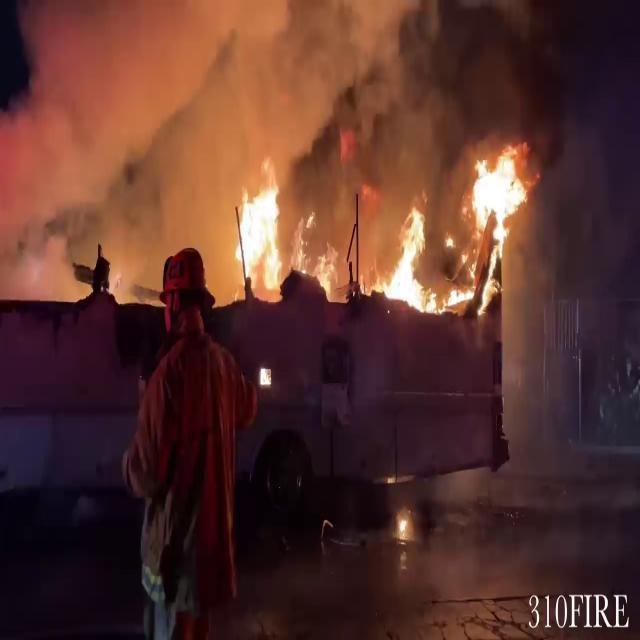Fire: (464, 145, 538, 264), (373, 206, 447, 321), (228, 172, 294, 298)
Smoke: (6, 0, 578, 197)
